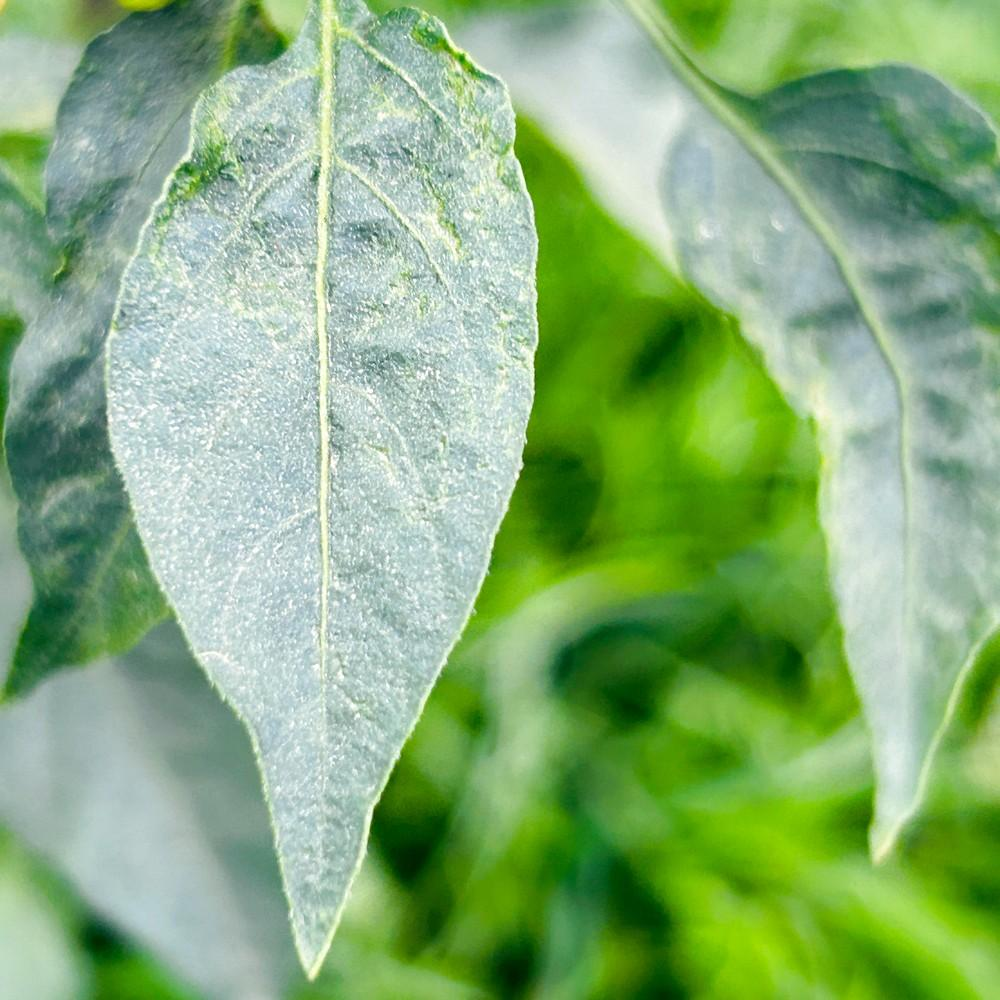Daun Cabai Sehat: (101, 1, 541, 980), (619, 0, 999, 865)
